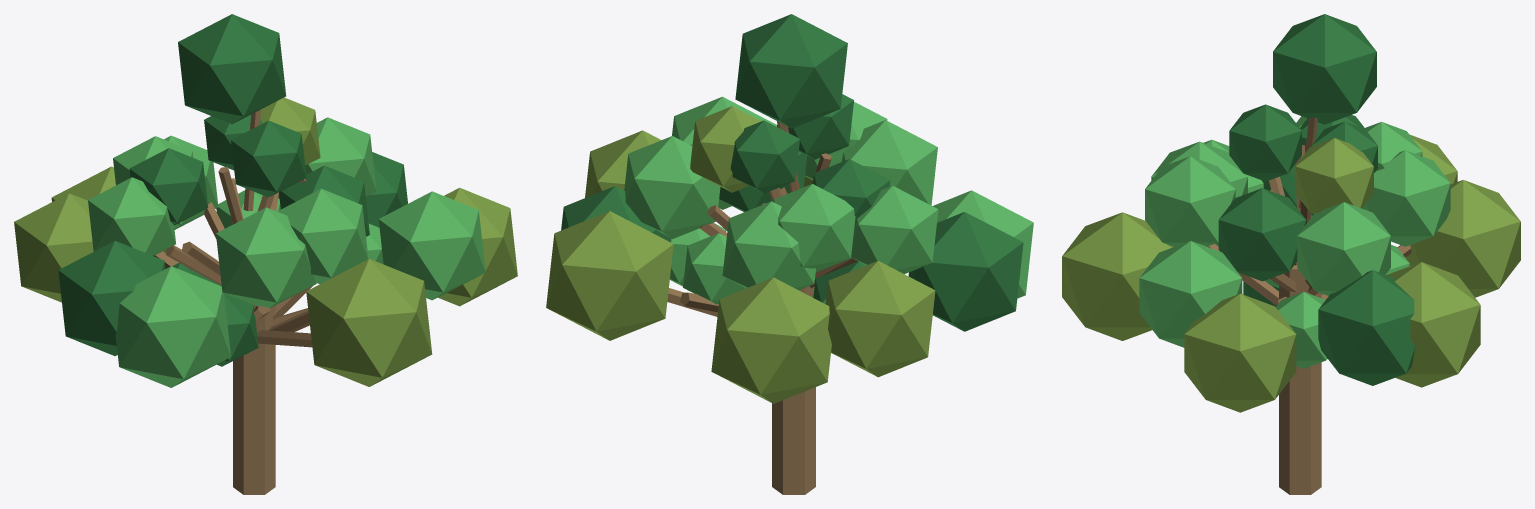
The model's file is Tree_06.glb.
The picture shows the model from 3 angles, left to right: view 1: azimuth 30°, elevation 25°; view 2: azimuth 150°, elevation 25°; view 3: azimuth 270°, elevation 25°; orthographic projection. The views are drawn at different scales.
Visible parts, largest first — view 1: T06_Sphere_07, T06_Sphere_11, T06_Sphere_03, T06_Sphere_12, T06_Sphere_16, T06_Sphere_06, T06_Trunk, T06_Sphere_10, T06_Sphere_20, T06_Sphere_15, T06_Sphere_22, T06_Sphere_08 (+15 smaller); view 2: T06_Sphere_09, T06_Sphere_05, T06_Sphere_10, T06_Sphere_03, T06_Sphere_06, T06_Sphere_18, T06_Sphere_15, T06_Sphere_14, T06_Sphere_19, T06_Sphere_16, T06_Trunk, T06_Sphere_24 (+12 smaller); view 3: T06_Sphere_08, T06_Sphere_07, T06_Sphere_03, T06_Sphere_13, T06_Sphere_05, T06_Sphere_09, T06_Sphere_12, T06_Sphere_18, T06_Sphere_20, T06_Sphere_17, T06_Sphere_14, T06_Trunk (+9 smaller).
Part boxes in pixels (<box>): T06_Sphere_07: <box>306,258,432,386</box>; T06_Sphere_11: <box>115,266,230,387</box>; T06_Sphere_03: <box>178,14,286,124</box>; T06_Sphere_12: <box>378,191,485,300</box>; T06_Sphere_16: <box>216,207,316,307</box>; T06_Sphere_06: <box>58,241,165,355</box>; T06_Trunk: <box>233,305,275,494</box>; T06_Sphere_10: <box>14,193,93,302</box>; T06_Sphere_20: <box>277,188,368,284</box>; T06_Sphere_15: <box>88,177,175,255</box>; T06_Sphere_22: <box>231,120,306,197</box>; T06_Sphere_08: <box>438,187,517,306</box>; T06_Sphere_09: <box>546,211,673,340</box>; T06_Sphere_05: <box>711,277,831,403</box>; T06_Sphere_10: <box>825,260,935,377</box>; T06_Sphere_03: <box>735,14,847,128</box>; T06_Sphere_06: <box>908,212,1023,331</box>; T06_Sphere_18: <box>624,136,720,238</box>; T06_Sphere_15: <box>851,185,938,273</box>; T06_Sphere_14: <box>722,201,815,290</box>; T06_Sphere_19: <box>773,184,855,272</box>; T06_Sphere_16: <box>841,120,937,205</box>; T06_Trunk: <box>772,286,815,494</box>; T06_Sphere_24: <box>730,120,799,193</box>; T06_Sphere_08: <box>1184,293,1296,412</box>; T06_Sphere_07: <box>1062,212,1173,340</box>; T06_Sphere_03: <box>1273,14,1376,124</box>; T06_Sphere_13: <box>1318,270,1415,385</box>; T06_Sphere_05: <box>1406,180,1520,297</box>; T06_Sphere_09: <box>1387,262,1480,387</box>; T06_Sphere_12: <box>1139,241,1242,347</box>; T06_Sphere_18: <box>1297,202,1390,295</box>; T06_Sphere_20: <box>1145,156,1235,246</box>; T06_Sphere_17: <box>1218,188,1306,281</box>; T06_Sphere_14: <box>1362,150,1450,246</box>; T06_Trunk: <box>1279,265,1321,494</box>.
Bounding box in the file's own units: 2.79 × 2.91 × 2.58.
